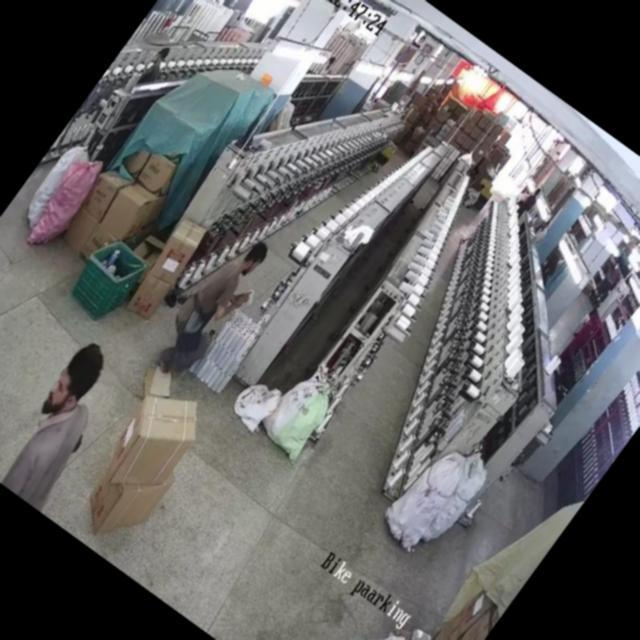person: (0, 337, 137, 507), (150, 223, 276, 373), (132, 42, 178, 92), (514, 182, 546, 220)
